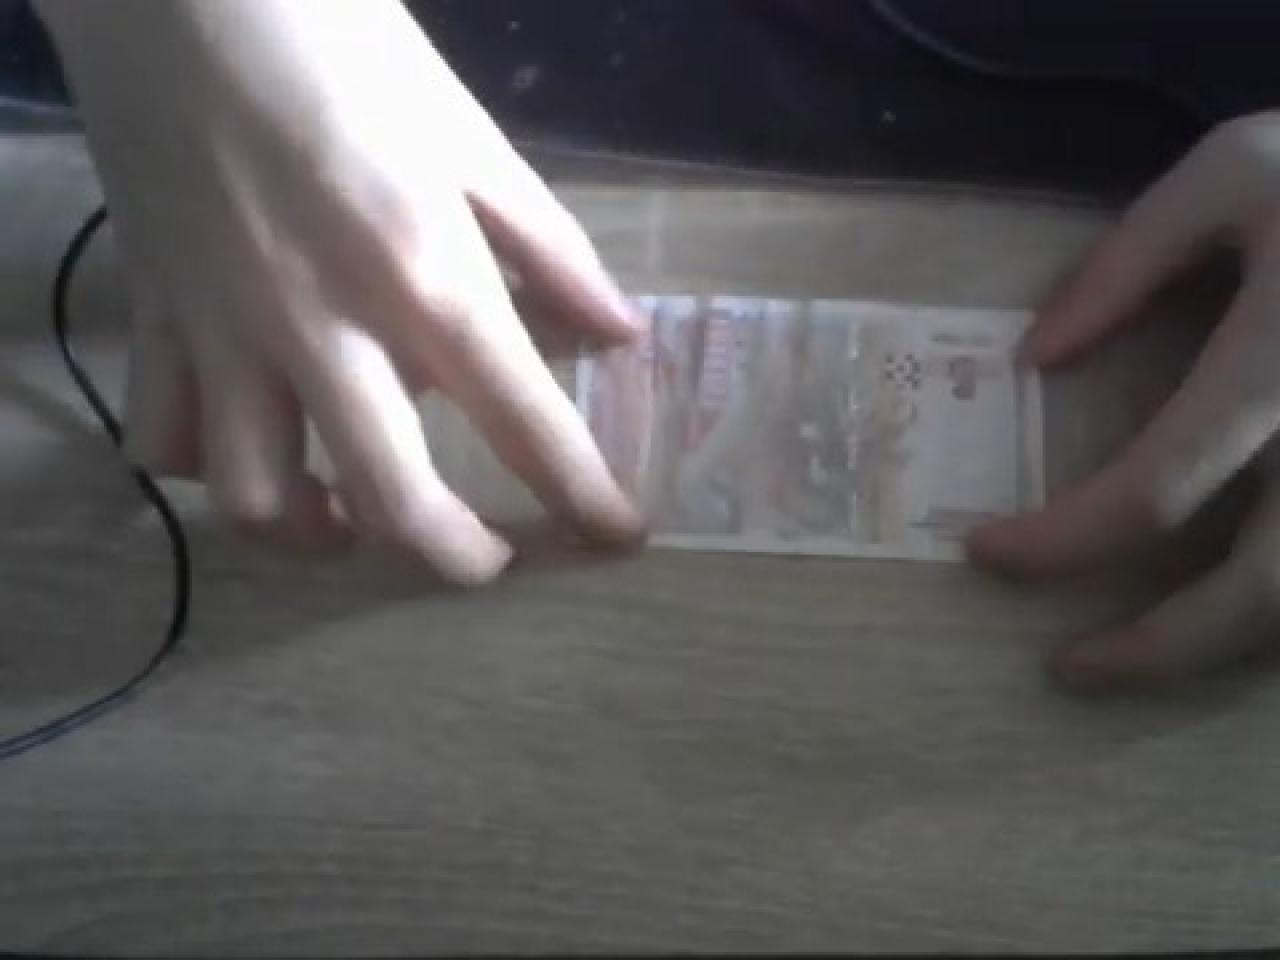5leva: (590, 293, 1104, 563)
